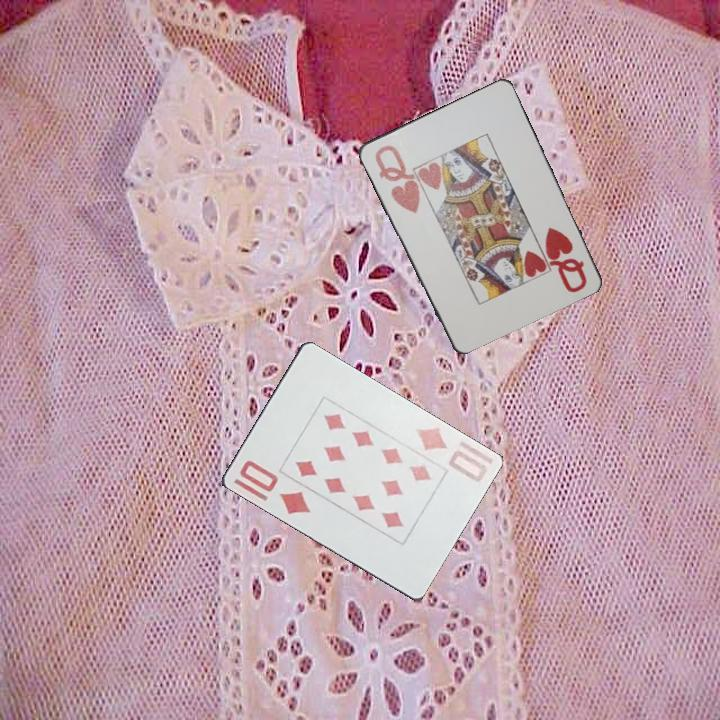Qh: (371, 141, 423, 217), (541, 224, 589, 295)
Td: (235, 456, 313, 518), (411, 424, 490, 485)
